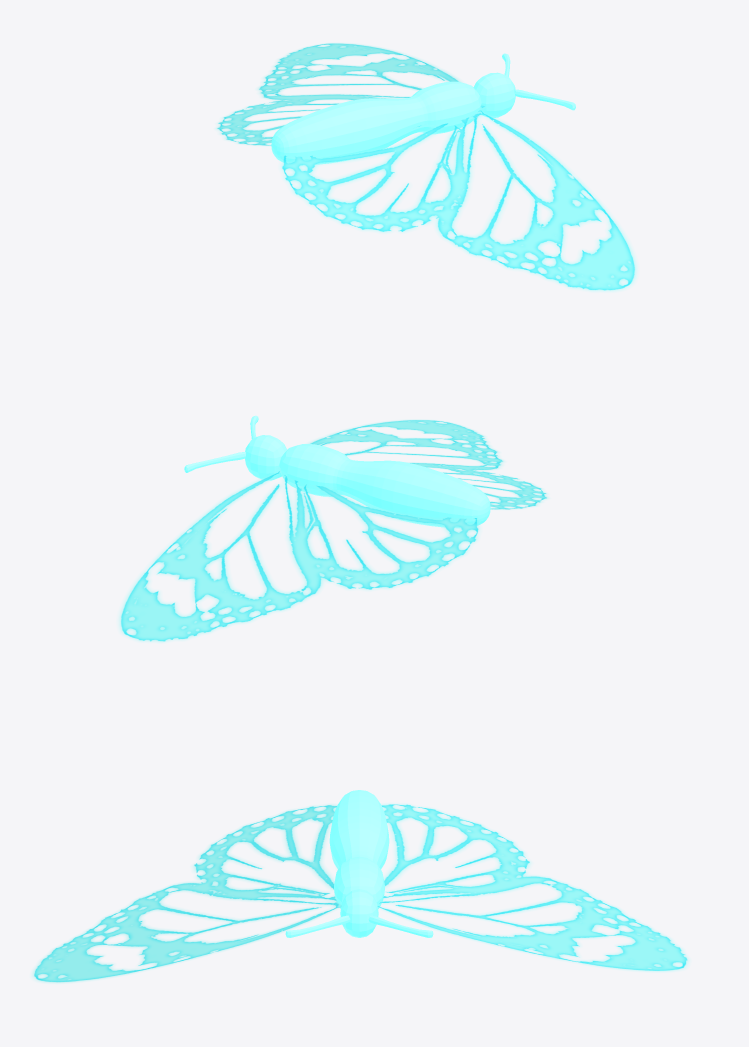
The model's file is Mariposa.gltf.
The picture shows the model from 3 angles, top to bottom: view 1: azimuth 30°, elevation 25°; view 2: azimuth 150°, elevation 25°; view 3: azimuth 270°, elevation 25°; orthographic projection. The views are drawn at different scales.
Parts seen in each view (by area): view 1: IMG_0214.001, Cube.002, IMG_0214; view 2: IMG_0214, Cube.002, IMG_0214.001; view 3: IMG_0214, IMG_0214.001, Cube.002.
Boxes of the visible parts, bbox=[...] form: IMG_0214.001: bbox=[280, 105, 637, 291]; Cube.002: bbox=[271, 53, 575, 165]; IMG_0214: bbox=[215, 43, 461, 145]; IMG_0214: bbox=[118, 467, 480, 642]; Cube.002: bbox=[184, 415, 490, 528]; IMG_0214.001: bbox=[307, 419, 548, 509]; IMG_0214: bbox=[377, 803, 689, 971]; IMG_0214.001: bbox=[31, 804, 341, 983]; Cube.002: bbox=[285, 790, 433, 937].
Size of the model in its own units: 7.02 by 1.83 by 11.14.
3 materials, 1 textured.
